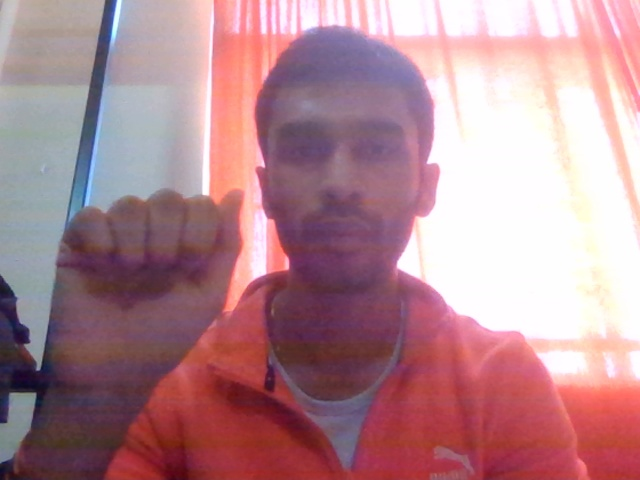A: (31, 145, 260, 405)
